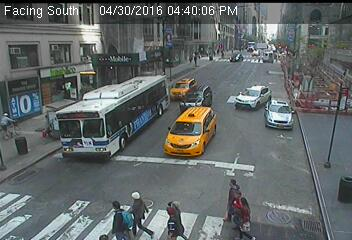neg: (153, 105, 183, 145), (303, 66, 329, 101), (300, 117, 326, 152), (248, 73, 273, 106), (233, 76, 256, 105), (79, 78, 101, 107), (275, 122, 296, 150), (195, 95, 215, 122), (295, 75, 314, 100), (144, 80, 160, 102), (274, 79, 290, 100), (210, 128, 225, 148), (244, 132, 258, 151), (131, 120, 141, 133)
pos: (229, 195, 260, 237), (99, 200, 126, 237), (163, 200, 190, 236), (217, 49, 227, 62), (205, 45, 213, 56), (187, 52, 195, 62)
